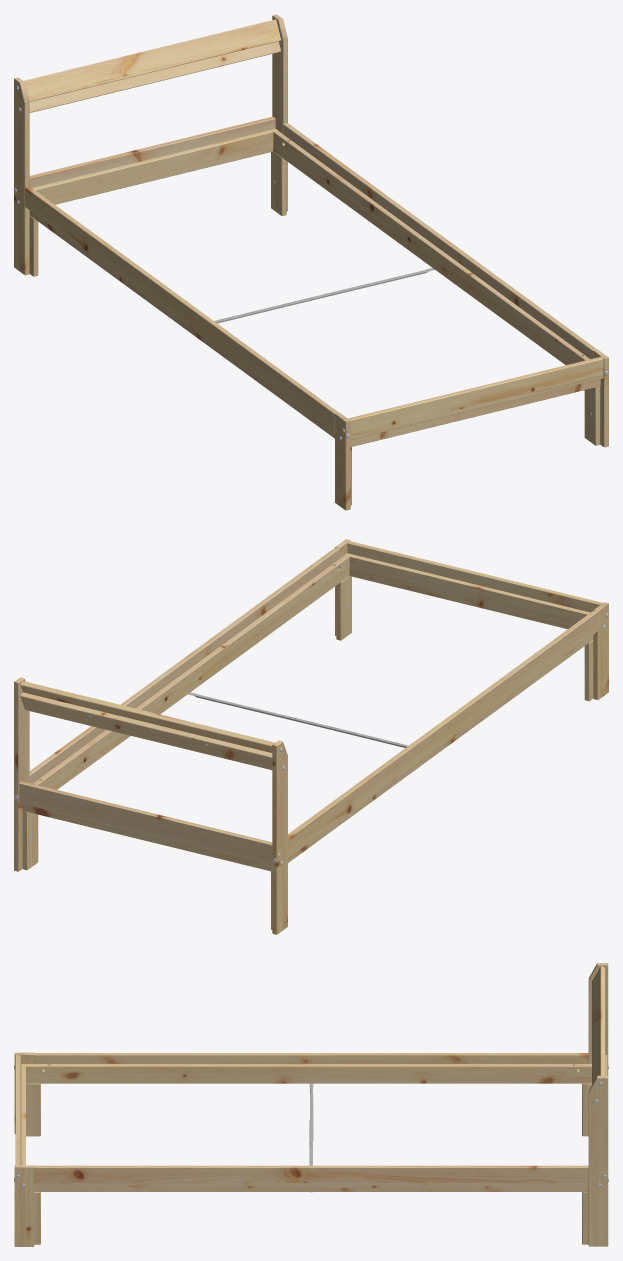
File: 01 - NEIDEN Bed frame - pine 90x200 cm.glb
3 renders of one model, top to bottom at view 1: azimuth 30°, elevation 25°; view 2: azimuth 150°, elevation 25°; view 3: azimuth 270°, elevation 25°, orthographic. The views are drawn at different scales.
Visible parts, largest first — view 1: Mesh_0; view 2: Mesh_0; view 3: Mesh_0.
Boxes of the visible parts, x1,y1,x2,y2 form: Mesh_0: [14, 14, 608, 510]; Mesh_0: [14, 539, 608, 934]; Mesh_0: [14, 963, 608, 1246].
Size of the model in its own units: 0.9448 by 0.645 by 2.06.
1 material, 1 textured.
